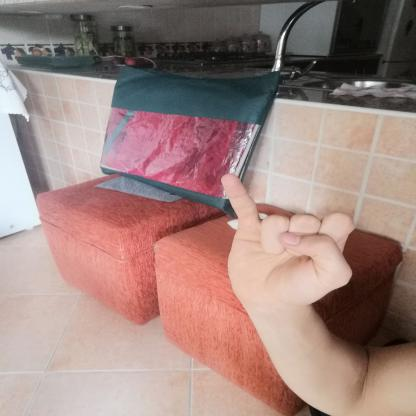MEEM: (201, 164, 369, 319)
